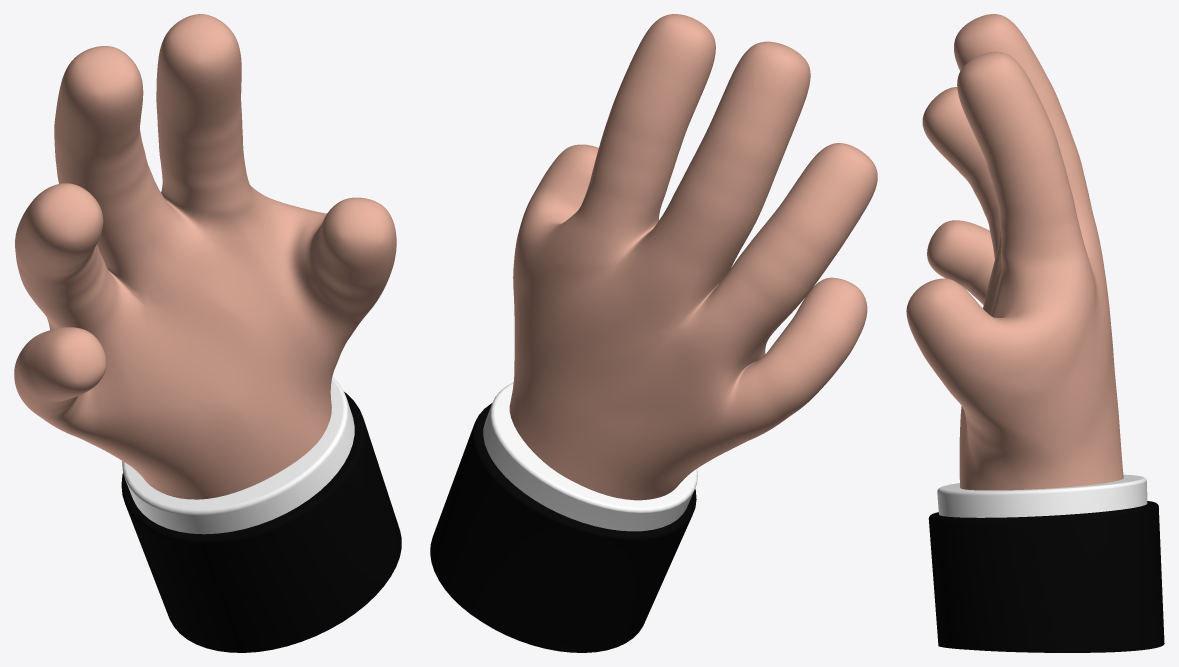
The model's file is emoji_jacket_smaller.glb.
The picture shows the model from 3 angles, left to right: view 1: azimuth 30°, elevation 25°; view 2: azimuth 150°, elevation 25°; view 3: azimuth 270°, elevation 25°; orthographic projection. The views are drawn at different scales.
Visible parts, largest first — view 1: hand, jacket; view 2: hand, jacket; view 3: hand, jacket.
Part boxes in pixels (<box>): hand: <box>14,14,396,499</box>; jacket: <box>121,377,401,652</box>; hand: <box>509,14,877,500</box>; jacket: <box>430,382,697,652</box>; hand: <box>906,14,1123,490</box>; jacket: <box>928,474,1164,652</box>.
Bounding box in the file's own units: 3.5 × 5.36 × 2.17.
